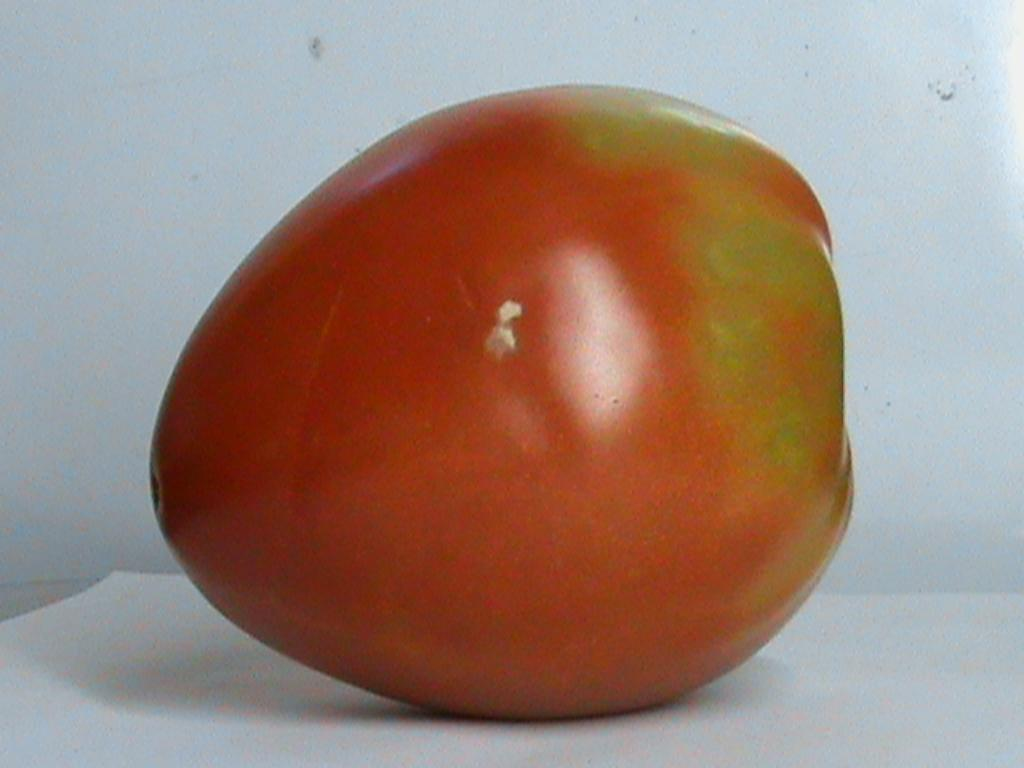bruise_discoloration: (541, 83, 852, 621)
surface_damage: (486, 301, 522, 355)
tomato: (152, 88, 848, 714)
